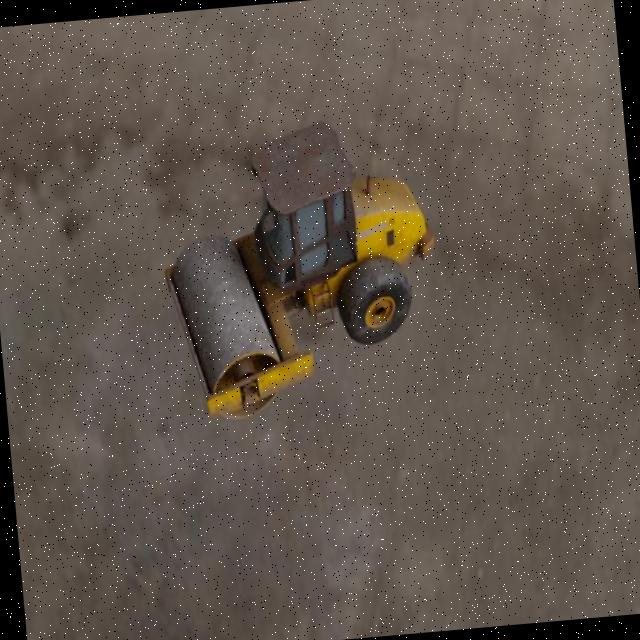Roller: (152, 110, 448, 424)
